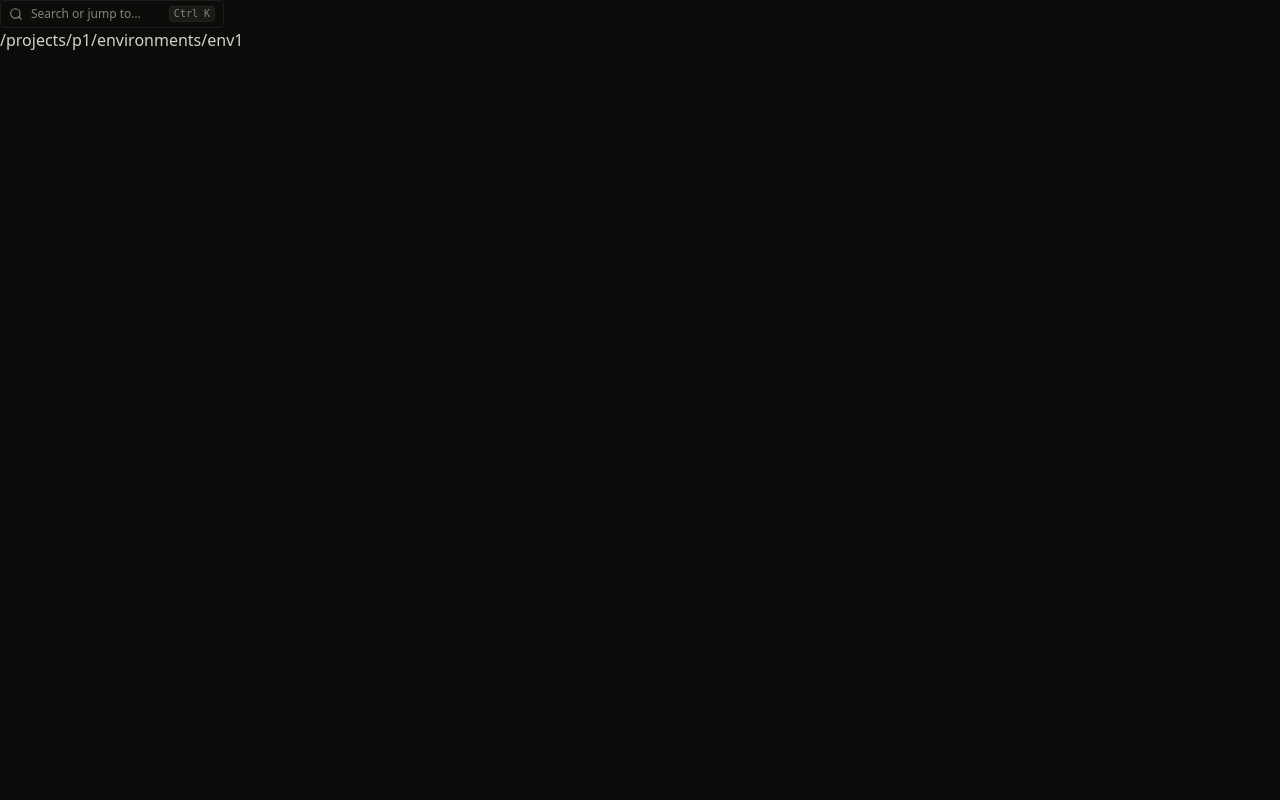
Scenario: opens with Ctrl+K and jumps to a page with the keyboard
Type keys "{Control>}k{/Control}"
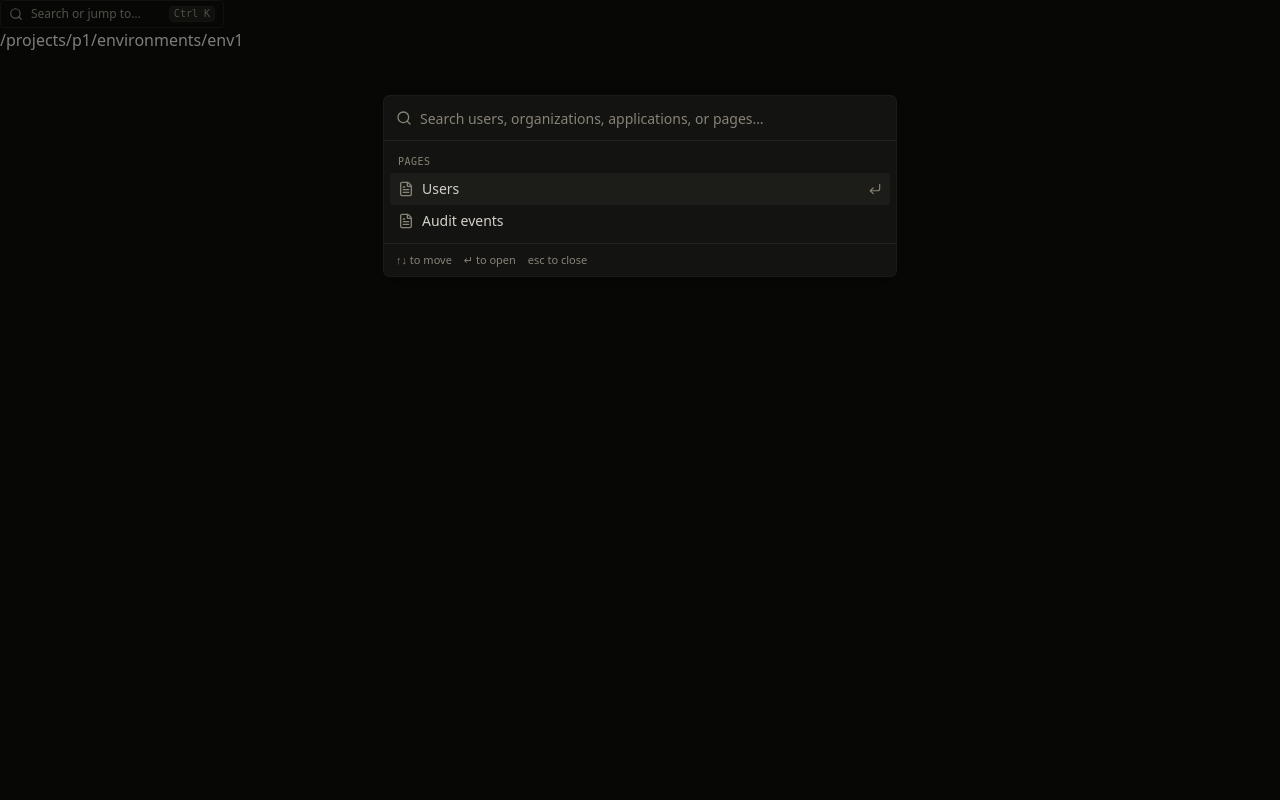
In the dropdown: [652, 118] box [420, 96, 884, 140], type "audit"
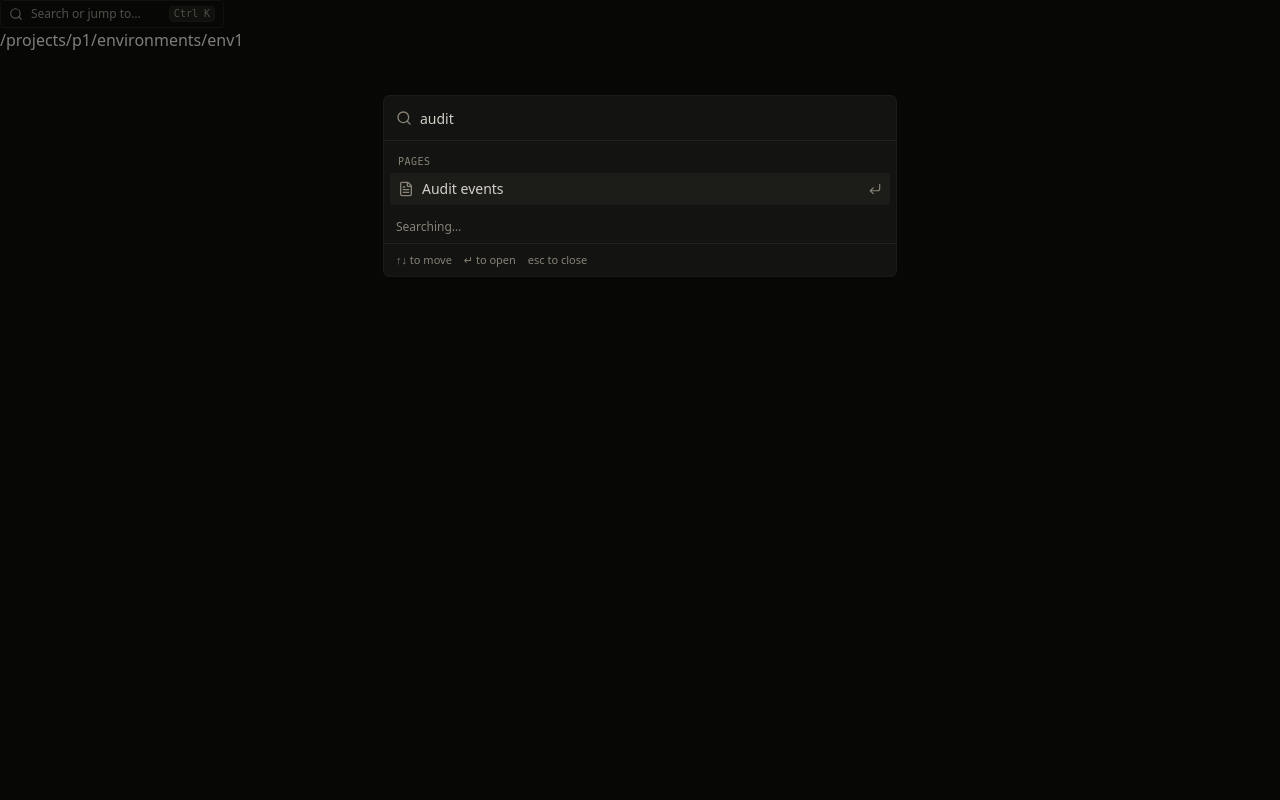
Check: the options read "Audit events", in this order, box [390, 173, 890, 205]
Press Enter
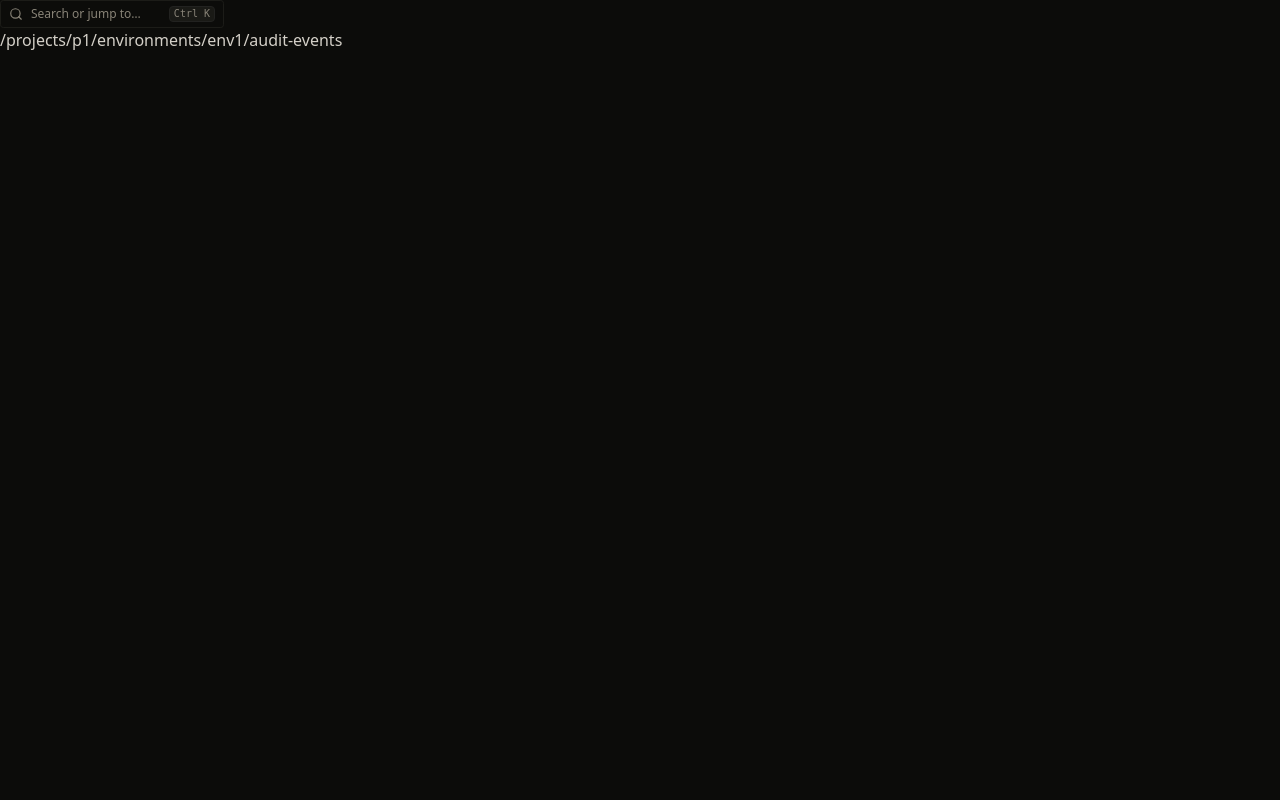
Check: the dropdown is gone
